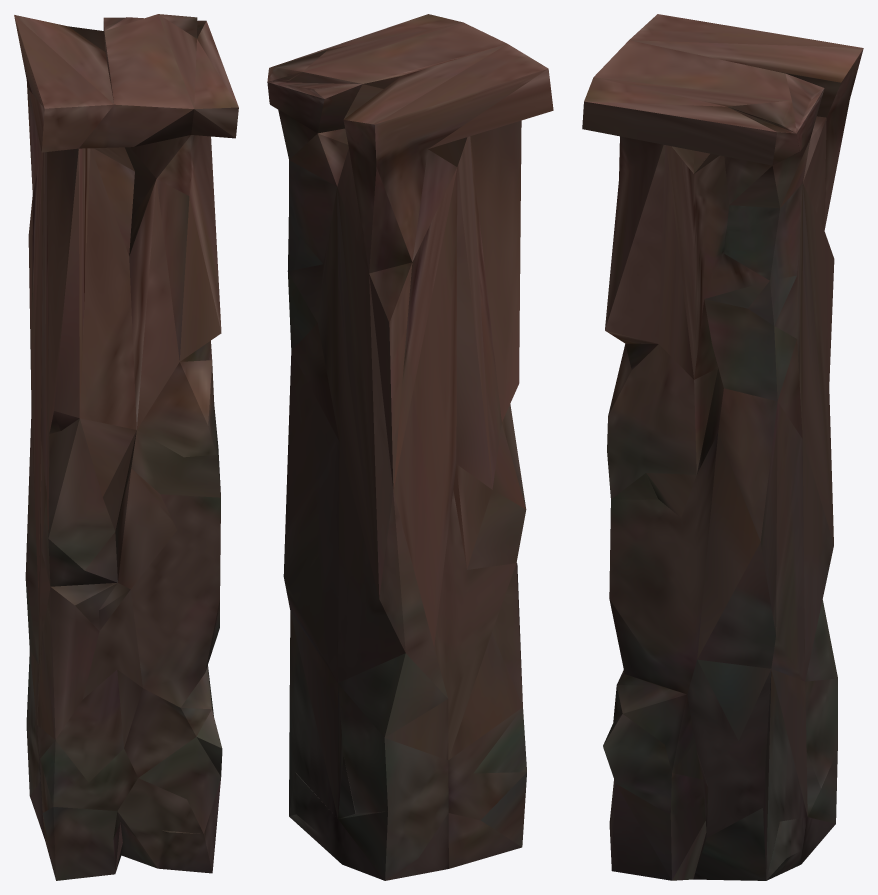
Rendered from bg_wasteland_ruin_2_lod1.glb.
3 views of the same model, side by side, from view 1: azimuth 30°, elevation 25°; view 2: azimuth 150°, elevation 25°; view 3: azimuth 270°, elevation 25° (orthographic).
Visible parts, largest first — view 1: body; view 2: body; view 3: body.
Boxes of the visible parts, <box> form: body: <box>14,14,238,880</box>; body: <box>267,14,553,880</box>; body: <box>582,14,863,880</box>.
Size of the model in its own units: 0.8994 by 2.99 by 0.969.
Materials: 1 (1 with a texture image).
